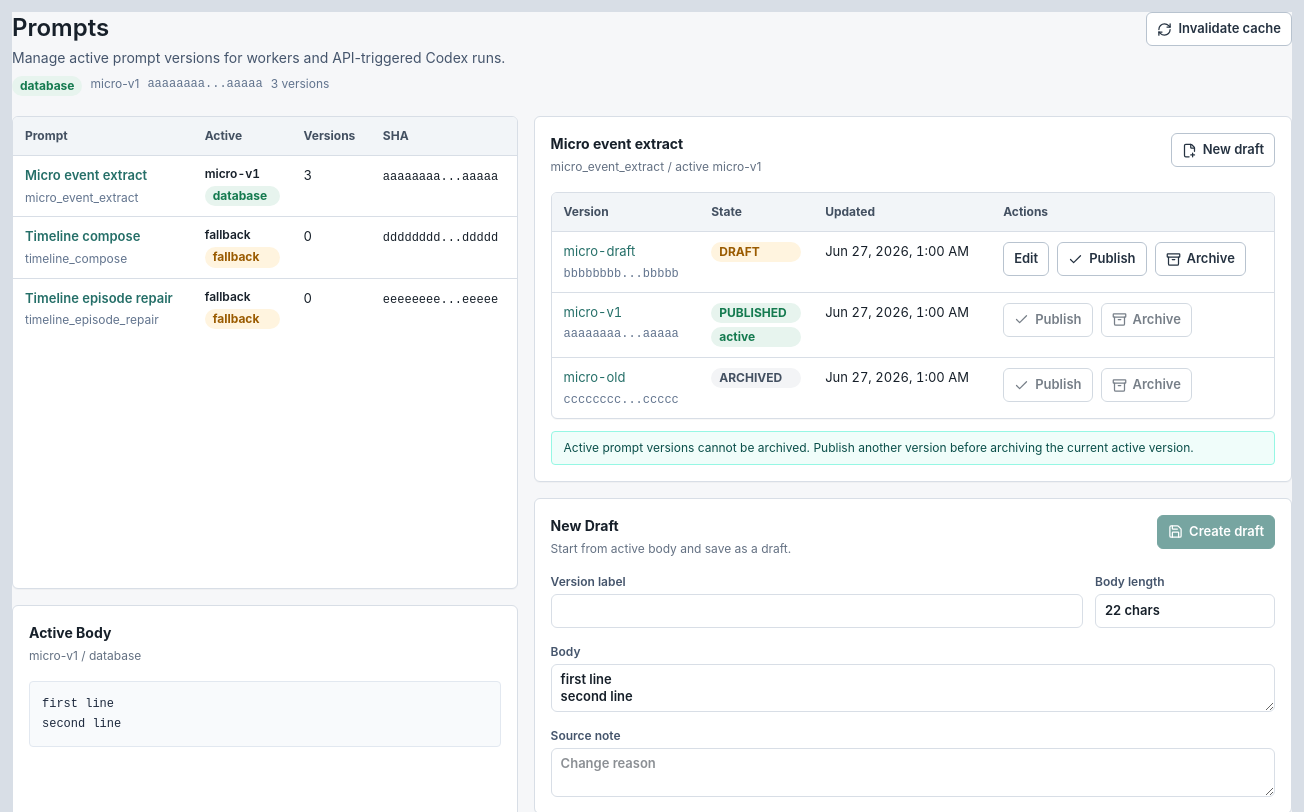
Test case: PromptsPage › updates the detail panel when another prompt is selected
Click the text "timeline_compose". click: click(83, 259)
box: [25,251,140,267]
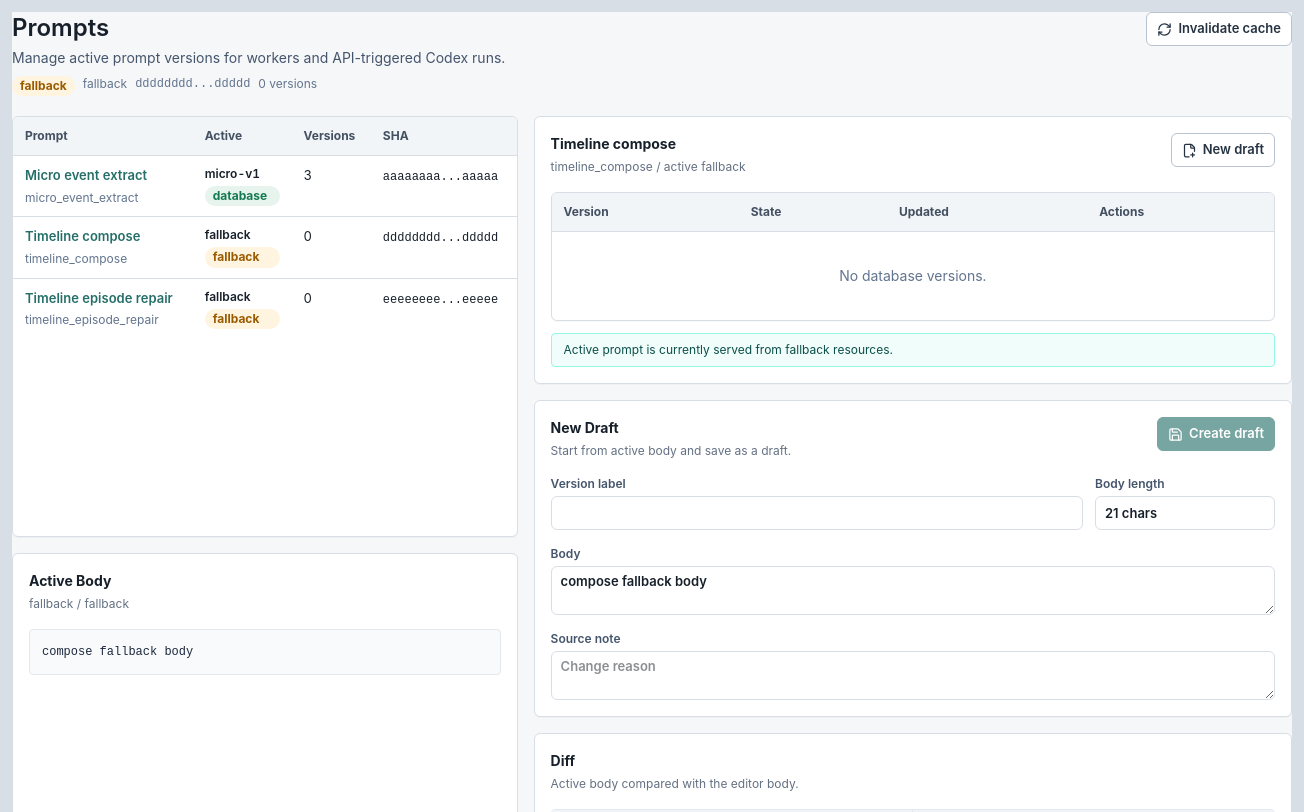
Now the text "Active prompt is currently served from fallback resources." is shown, box [551,333,1275,367]
